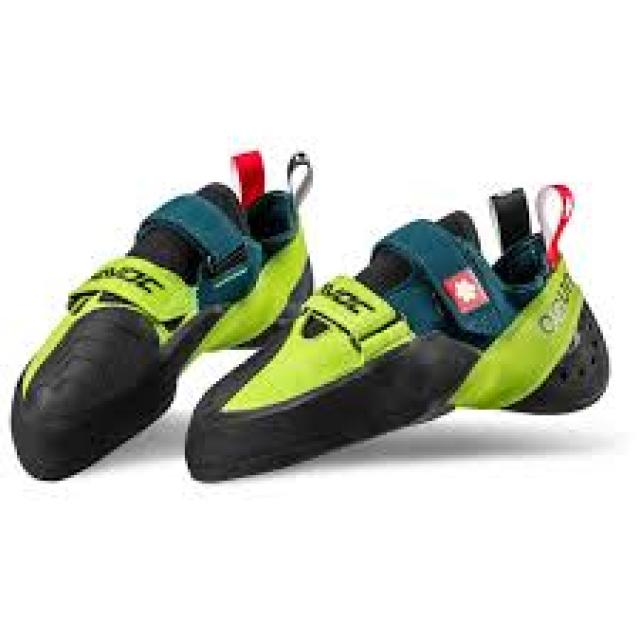climbing-shoes: (186, 183, 604, 481), (13, 146, 320, 481)
